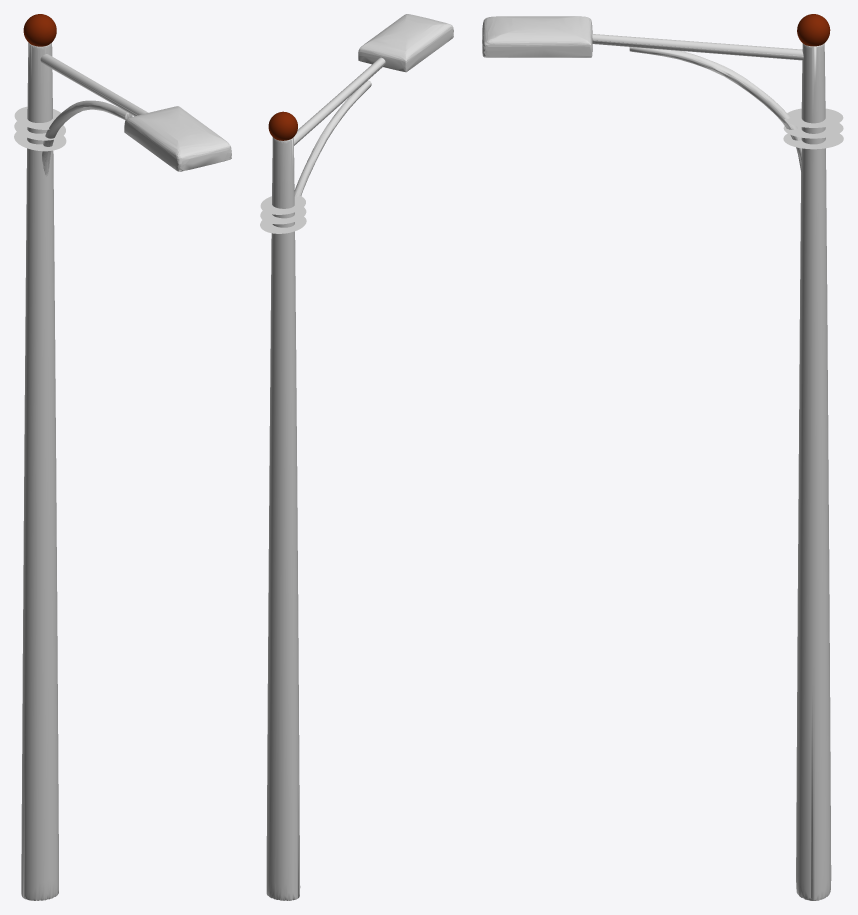
File: streetlight.glb
The picture shows the model from 3 angles, left to right: view 1: azimuth 30°, elevation 25°; view 2: azimuth 150°, elevation 25°; view 3: azimuth 270°, elevation 25°; orthographic projection. The views are drawn at different scales.
Parts seen in each view (by area): view 1: streetlight; view 2: streetlight; view 3: streetlight.
Part boxes in pixels (x1,y1,x2,y2): streetlight: (14,14,231,900); streetlight: (260,14,453,900); streetlight: (482,14,843,900).
Bounding box in the file's own units: 0.5197 × 8 × 2.99.
